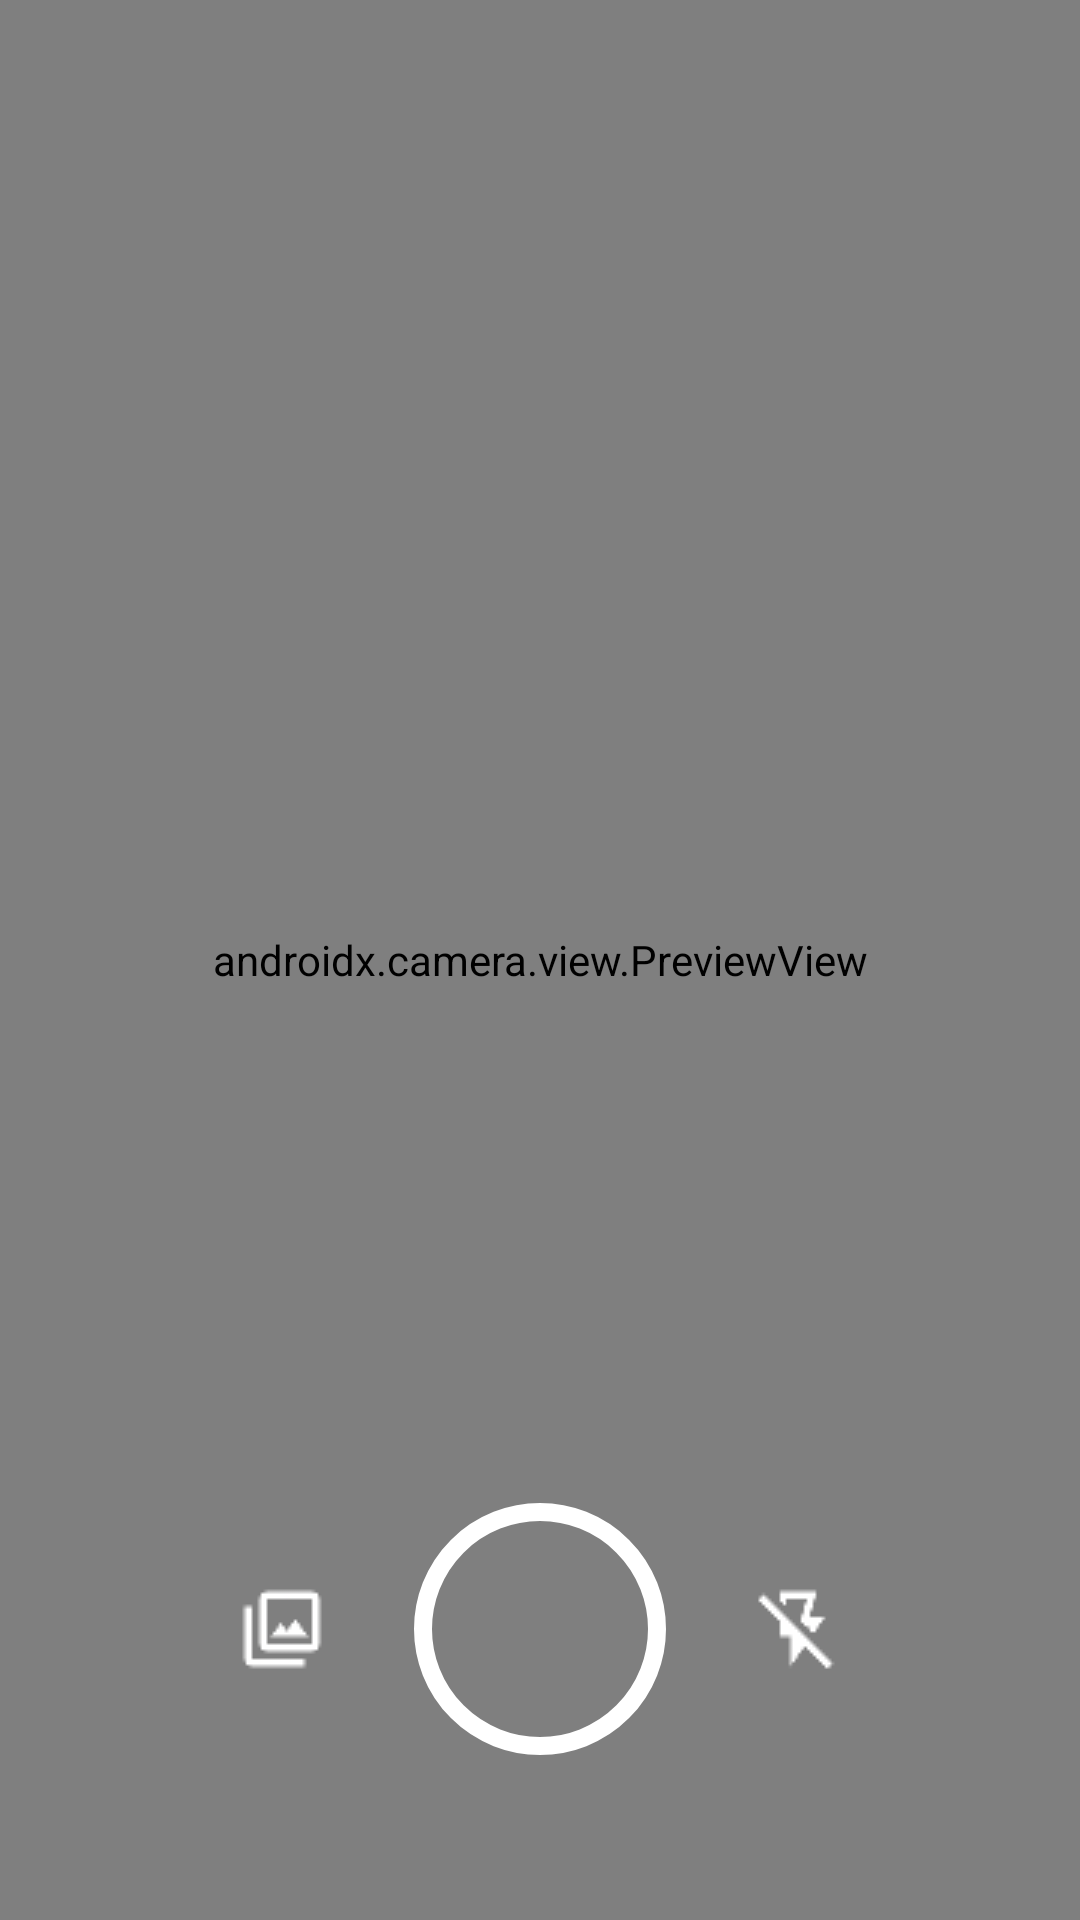

Icons on this 1080×1920 Android screen, each with the point to tap as [x,y]:
Flash: [795,1629]
Gallery: [282,1629]
